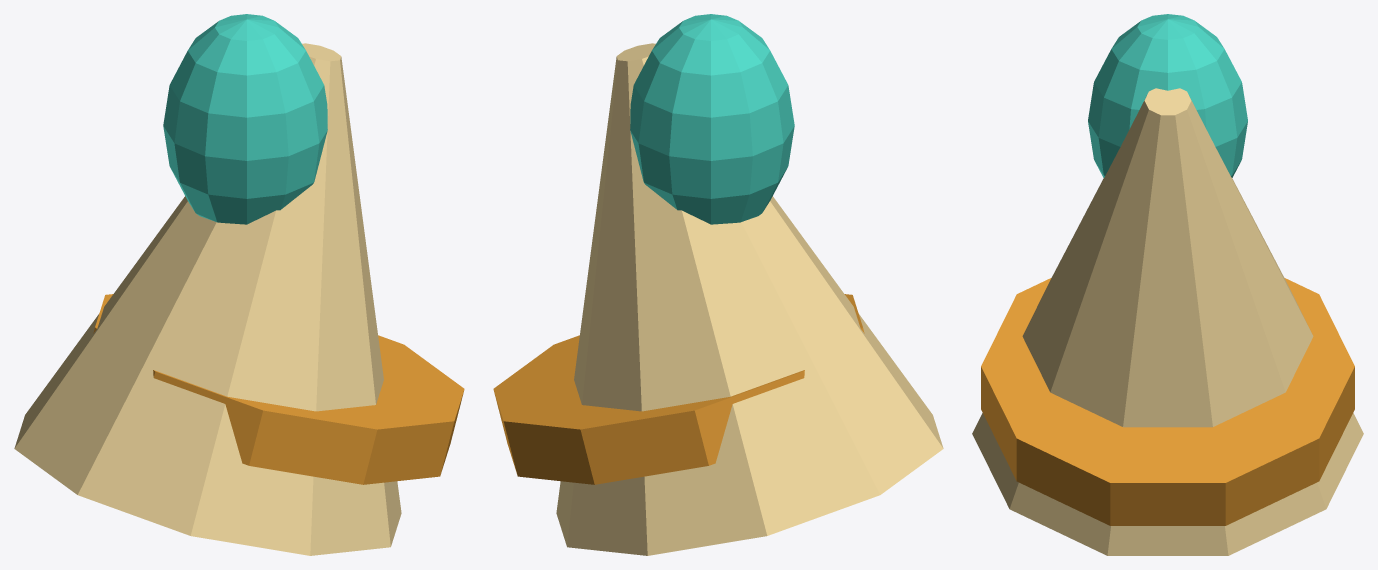
Rendered from MAT_HornCore_V1.glb.
3 views of the same model, side by side, from view 1: azimuth 30°, elevation 25°; view 2: azimuth 150°, elevation 25°; view 3: azimuth 270°, elevation 25° (orthographic). The views are drawn at different scales.
Visible parts, largest first — view 1: IvoryCore, MagicCore, CoreBand; view 2: IvoryCore, MagicCore, CoreBand; view 3: IvoryCore, CoreBand, MagicCore.
Boxes of the visible parts, x1,y1,x2,y2 form: IvoryCore: (14,43,401,555); MagicCore: (163,14,327,224); CoreBand: (93,294,464,484); IvoryCore: (556,43,943,555); MagicCore: (630,14,794,224); CoreBand: (493,294,864,484); IvoryCore: (972,88,1363,555); CoreBand: (981,278,1354,525); MagicCore: (1088,14,1247,177).
Size of the model in its own units: 1.21 by 1.49 by 1.1.
